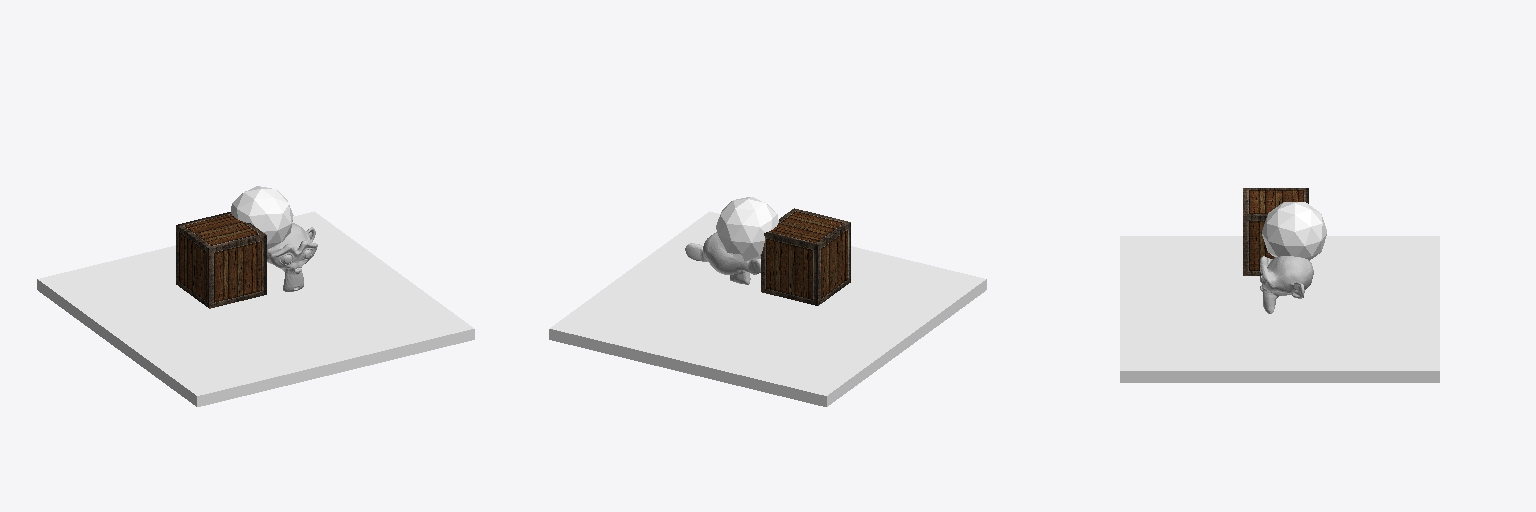
3 views of the same model, side by side, from view 1: azimuth 30°, elevation 25°; view 2: azimuth 150°, elevation 25°; view 3: azimuth 270°, elevation 25° (orthographic).
Parts seen in each view (by area): view 1: Cube, Cube.001, Icosphere, Suzanne; view 2: Cube, Cube.001, Icosphere, Suzanne; view 3: Cube, Icosphere, Cube.001, Suzanne.
Boxes of the visible parts, <box> form: Cube: <box>37,211,474,406</box>; Cube.001: <box>176,212,266,308</box>; Icosphere: <box>231,186,293,249</box>; Suzanne: <box>267,223,317,291</box>; Cube: <box>549,211,986,406</box>; Cube.001: <box>761,208,850,305</box>; Icosphere: <box>716,197,778,261</box>; Suzanne: <box>685,232,760,284</box>; Cube: <box>1120,236,1439,382</box>; Icosphere: <box>1262,202,1326,260</box>; Cube.001: <box>1243,188,1308,275</box>; Suzanne: <box>1260,256,1313,313</box>.
Bounding box in the file's own units: 9.7 × 3.95 × 9.7.
Materials: 3 (1 with a texture image).